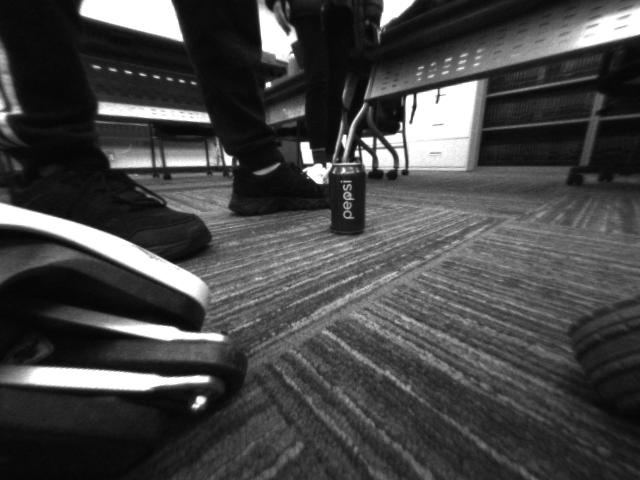can: (327, 160, 370, 239)
